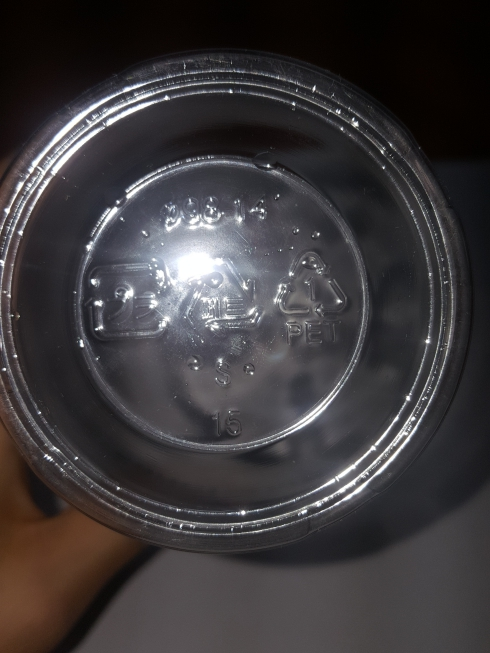recycle: (270, 234, 353, 352)
